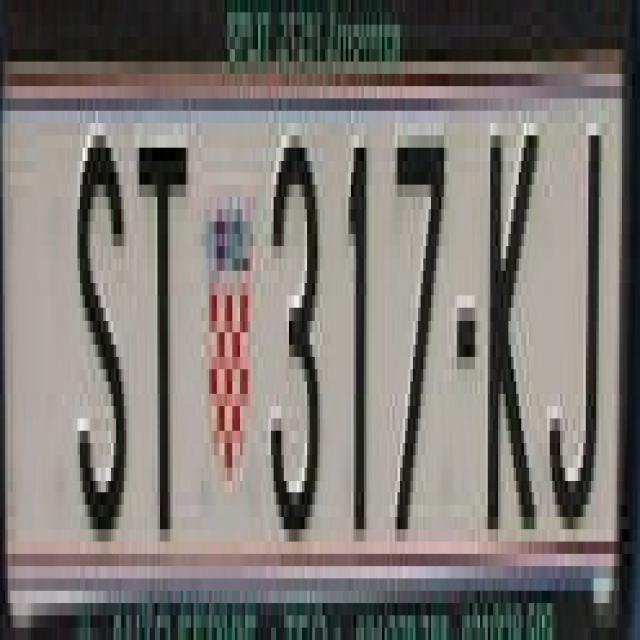1: (341, 135, 374, 517)
3: (271, 135, 323, 517)
7: (387, 136, 449, 530)
K: (480, 111, 539, 517)
S: (72, 123, 132, 542)
T: (134, 148, 186, 542)
